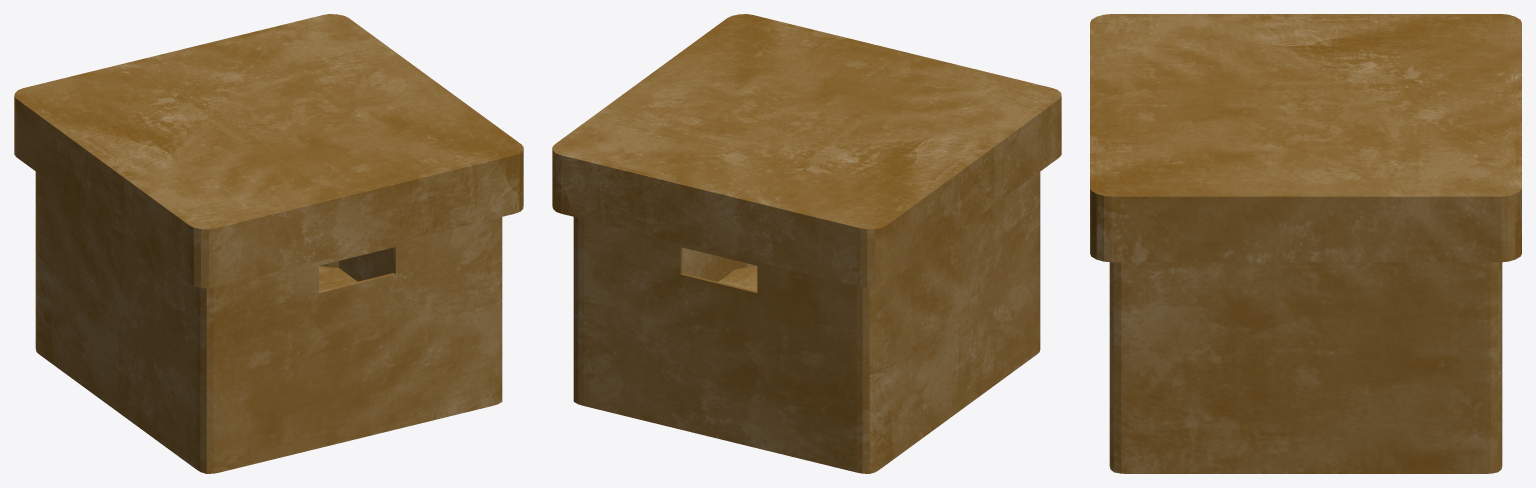
Rendered from cardboard_storage_box.glb.
3 renders of one model, left to right at view 1: azimuth 30°, elevation 25°; view 2: azimuth 150°, elevation 25°; view 3: azimuth 270°, elevation 25°, orthographic. The views are drawn at different scales.
Visible parts, largest first — view 1: Lid, Box; view 2: Lid, Box; view 3: Lid, Box.
Boxes of the visible parts, box(x1,y1,x2,y2) form: Lid: box(14, 14, 523, 287); Box: box(35, 171, 502, 473); Lid: box(552, 14, 1061, 287); Box: box(573, 172, 1040, 473); Lid: box(1090, 14, 1521, 262); Box: box(1109, 262, 1502, 473).
Bounding box in the file's own units: 2.2 × 1.61 × 2.2.
1 material, 1 textured.
